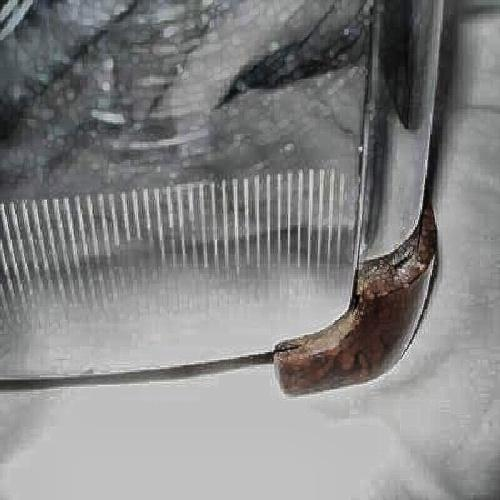toaster: (19, 13, 449, 405)
